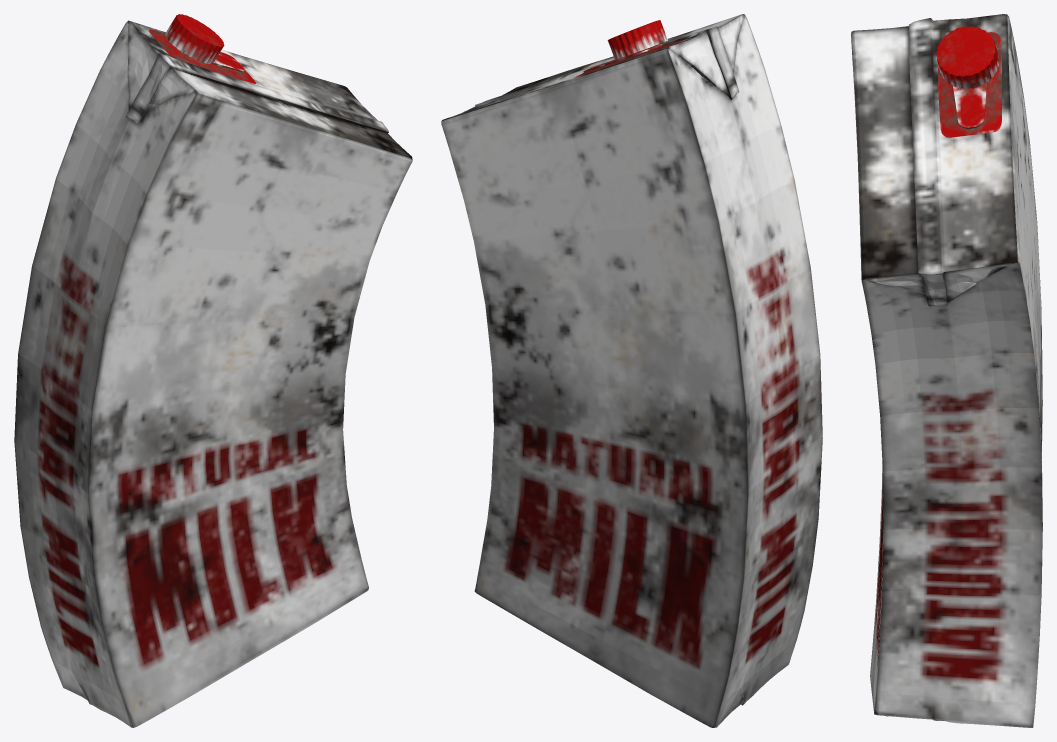
Rendered from bend_medium_0.obj.
The picture shows the model from 3 angles, left to right: view 1: azimuth 30°, elevation 25°; view 2: azimuth 150°, elevation 25°; view 3: azimuth 270°, elevation 25°; orthographic projection. The views are drawn at different scales.
Visible parts, largest first — view 1: model; view 2: model; view 3: model.
Boxes of the visible parts, x1,y1,x2,y2 form: model: (14, 14, 412, 727); model: (441, 14, 822, 727); model: (851, 14, 1042, 727).
Bounding box in the file's own units: 0.1148 × 0.2274 × 0.0556.
Materials: 1 (1 with a texture image).
